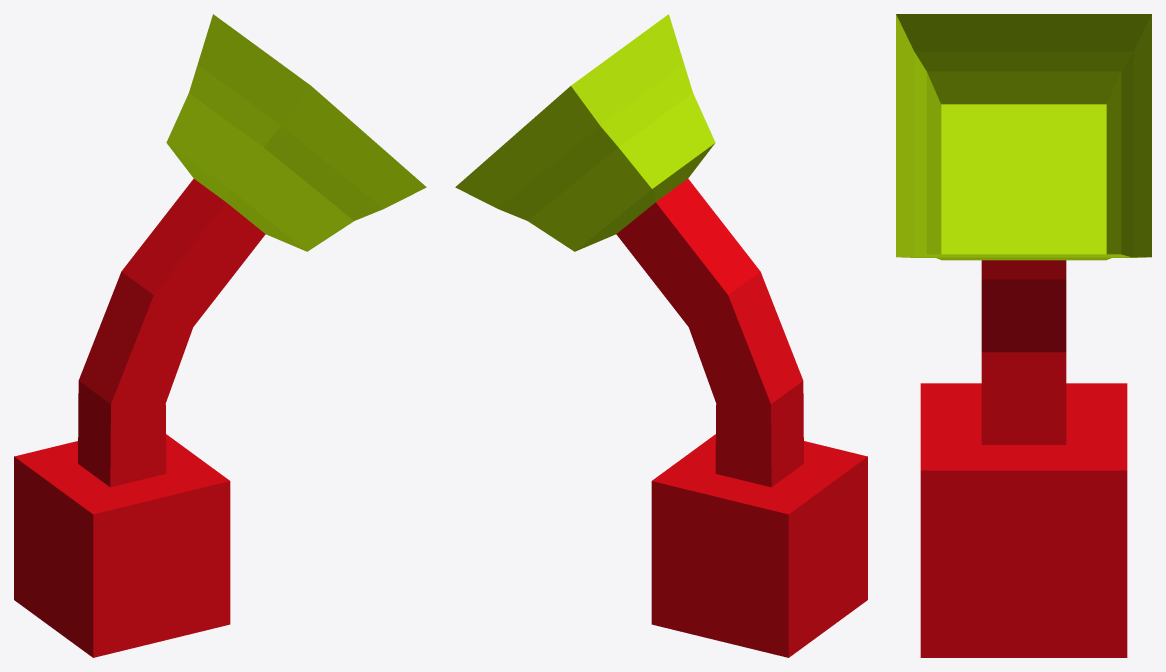
The model's file is Lamp.fbx.
3 renders of one model, left to right at view 1: azimuth 30°, elevation 25°; view 2: azimuth 150°, elevation 25°; view 3: azimuth 270°, elevation 25°, orthographic. The views are drawn at different scales.
Visible parts, largest first — view 1: Cube; view 2: Cube; view 3: Cube.
Part boxes in pixels (<box>): Cube: <box>14,14,426,657</box>; Cube: <box>455,14,867,657</box>; Cube: <box>896,14,1151,657</box>.
Size of the model in its own units: 142 by 221 by 74.27.
